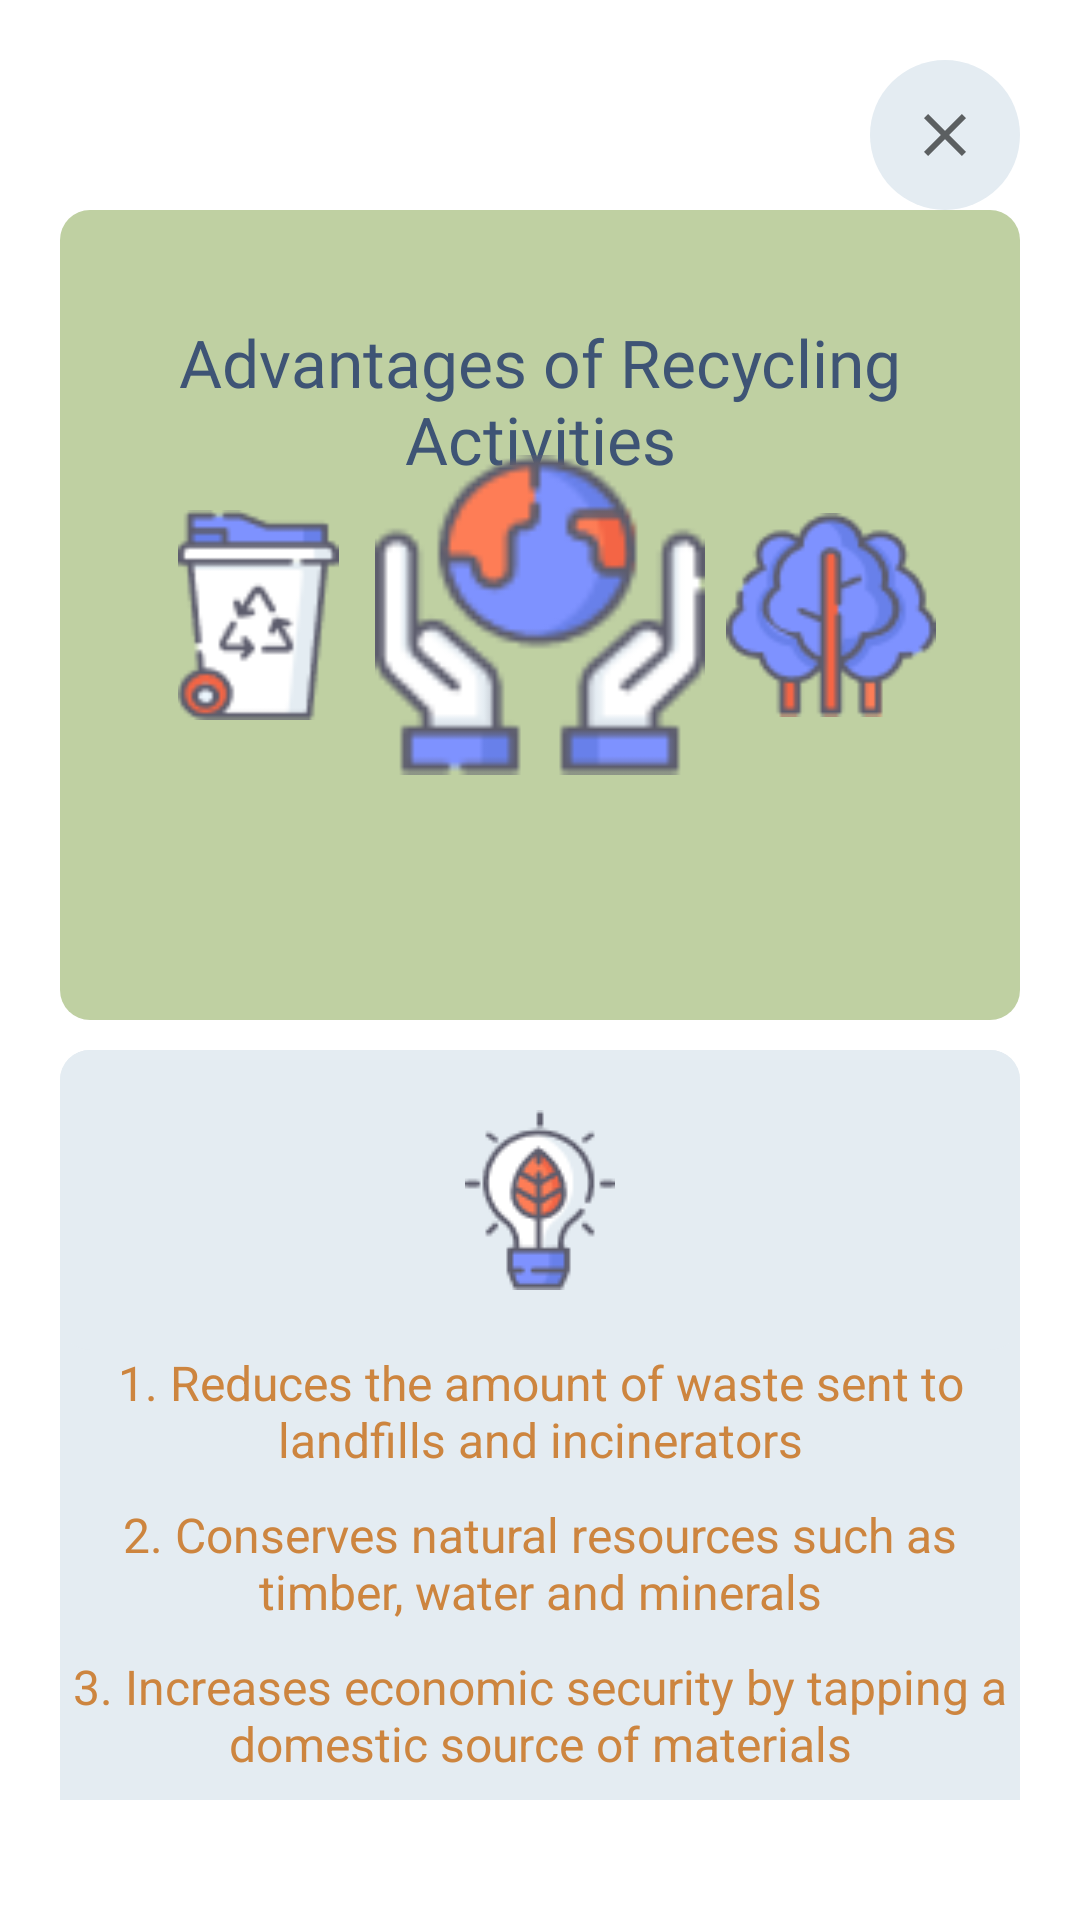

Icons on this 1080x1920 Android screen, each with its box as Rect(x1, y1, x2, y2):
bin: Rect(178, 510, 339, 720)
bulb: Rect(465, 1110, 615, 1290)
close: Rect(870, 60, 1020, 210)
earth: Rect(375, 530, 705, 775)
trees: Rect(726, 513, 936, 717)
